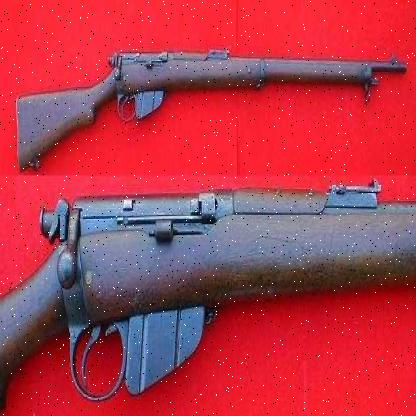rifle: (0, 167, 415, 415), (13, 33, 414, 180)
